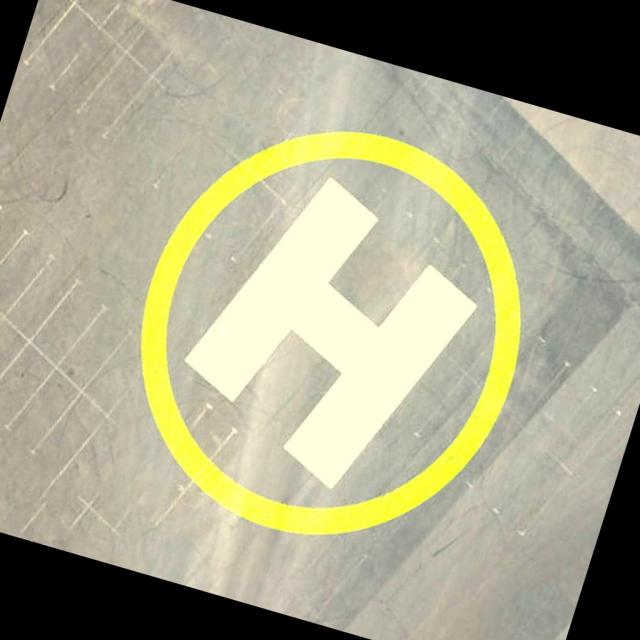helipad: (127, 123, 534, 544)
